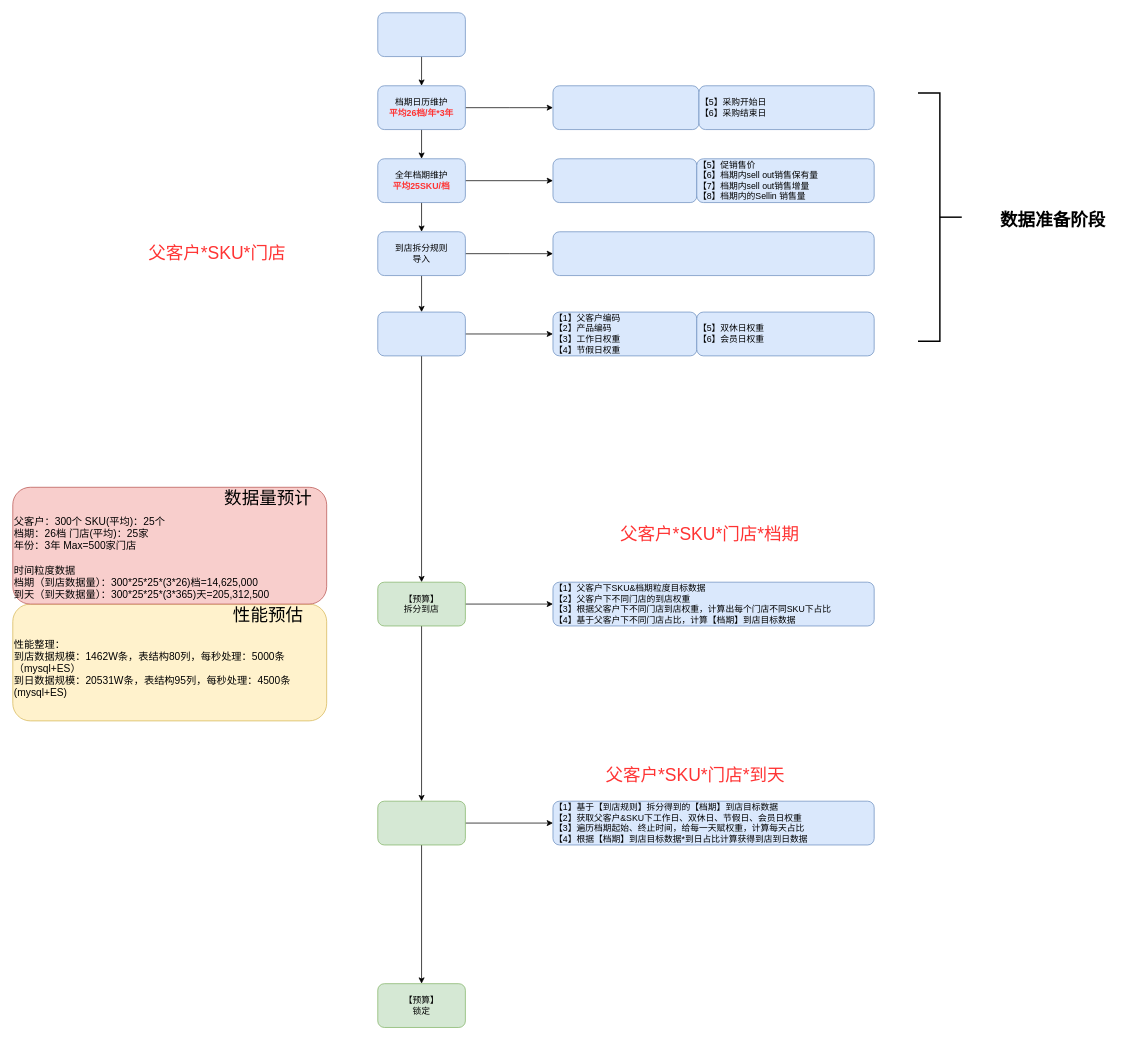
This 1135x1040 diagram has some shape labels left out. Here are the shapes that lost their labels. From the top down, the centre of each, then its label:
At (x=421, y=34): "父客户维 数量：400个".
At (x=625, y=107): "【1】父客户编码 【2】档期期号 【3】档期开始日期 【4】档期结束日期".
At (x=624, y=180): "【1】父客户编码 【2】档期期号 【3】产品编码 【4】促销类型".
At (x=713, y=253): "【1】父客户编码 【2】产品编码 【3】门店编码 【4】门店分配权重".
At (x=421, y=333): "到日拆分规则 导入".
At (x=421, y=822): "【预算】 拆分到天".
